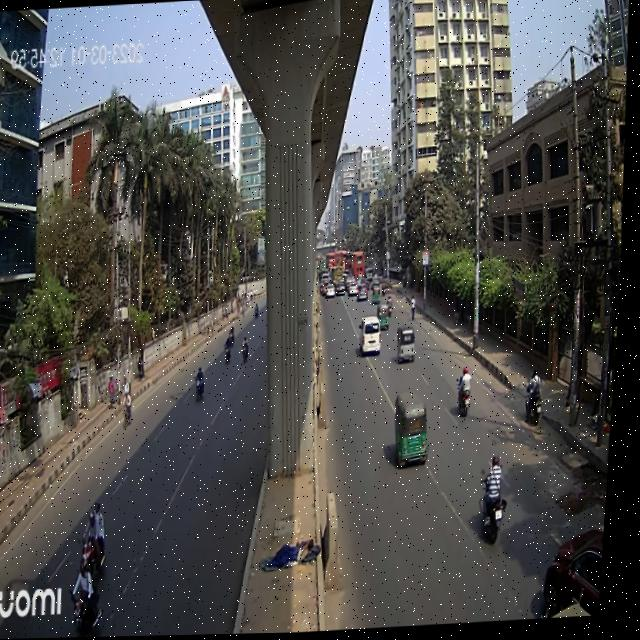cng: (392, 386, 436, 485), (399, 323, 422, 370), (380, 303, 396, 337)
